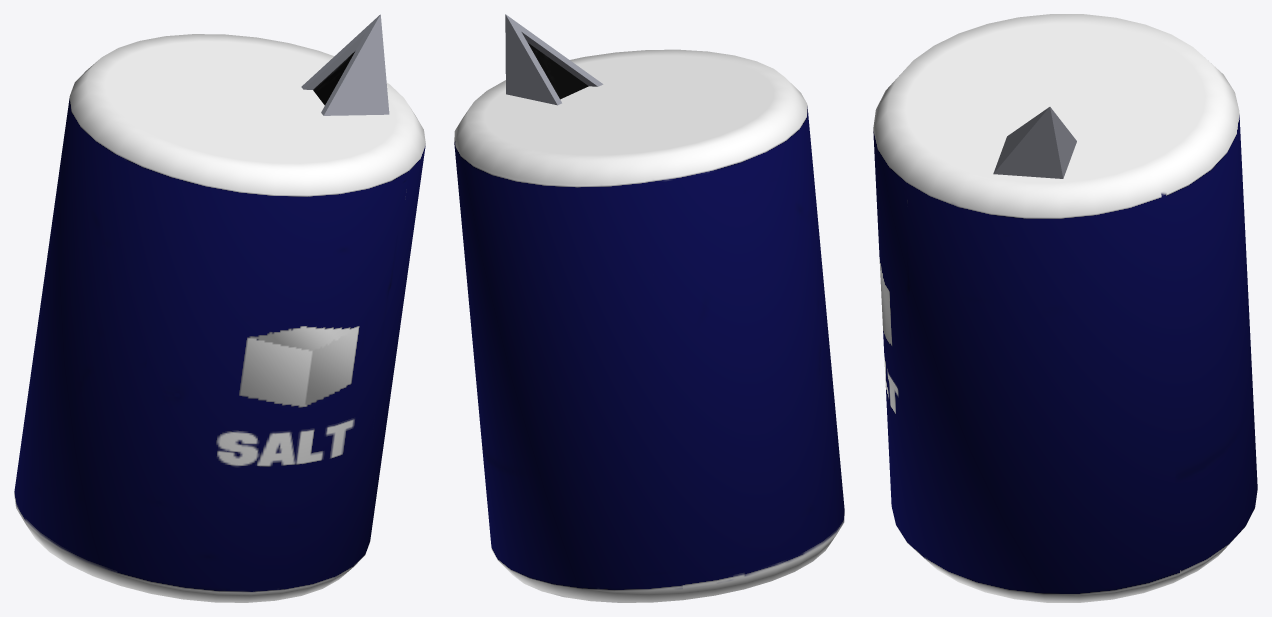
Rendered from Salt.fbx.
The picture shows the model from 3 angles, left to right: view 1: azimuth 30°, elevation 25°; view 2: azimuth 150°, elevation 25°; view 3: azimuth 270°, elevation 25°; orthographic projection. The views are drawn at different scales.
Parts seen in each view (by area): view 1: Cylinder.005; view 2: Cylinder.005; view 3: Cylinder.005.
Part boxes in pixels (x1,y1,x2,y2): Cylinder.005: (14,14,425,602); Cylinder.005: (454,14,844,602); Cylinder.005: (873,14,1257,602).
Size of the model in its own units: 246 by 334 by 225.
